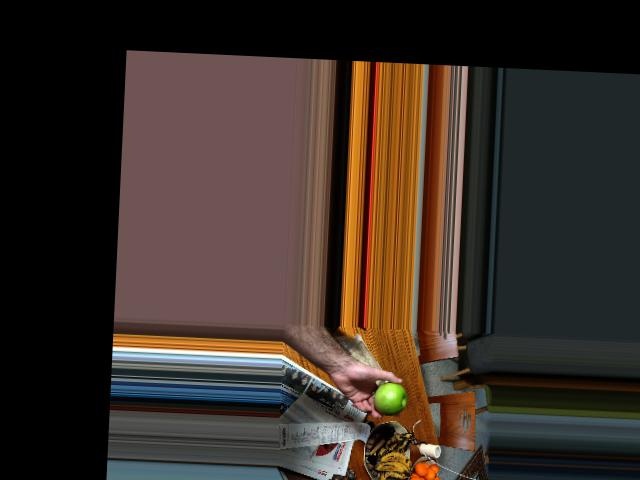apple: (372, 379, 407, 411)
